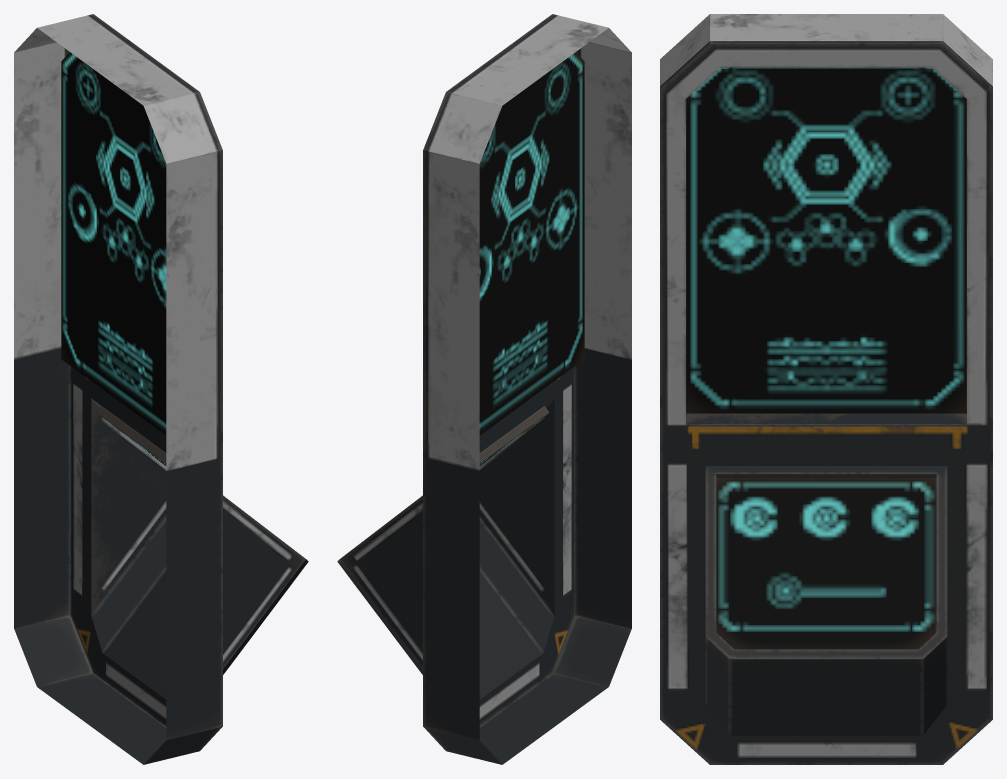
File: TerminalWall.glb
The picture shows the model from 3 angles, left to right: view 1: azimuth 30°, elevation 25°; view 2: azimuth 150°, elevation 25°; view 3: azimuth 270°, elevation 25°; orthographic projection. The views are drawn at different scales.
Parts seen in each view (by area): view 1: Elements2_1_Scifi_BS.001; view 2: Elements2_1_Scifi_BS.001; view 3: Elements2_1_Scifi_BS.001.
Part boxes in pixels (x1,y1,x2,y2): Elements2_1_Scifi_BS.001: (14, 14, 308, 764); Elements2_1_Scifi_BS.001: (337, 14, 631, 764); Elements2_1_Scifi_BS.001: (660, 14, 992, 764).
Bounding box in the file's own units: 0.3636 × 1.31 × 0.5498.
Materials: 1 (1 with a texture image).
